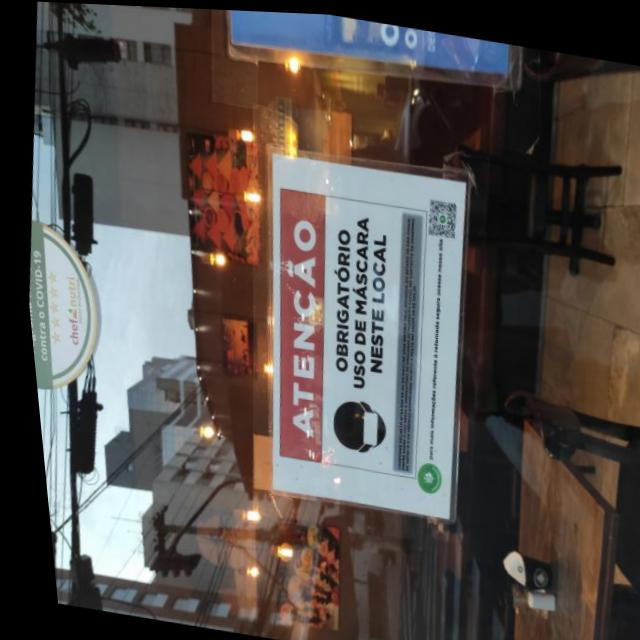qrcode: (422, 194, 456, 234)
